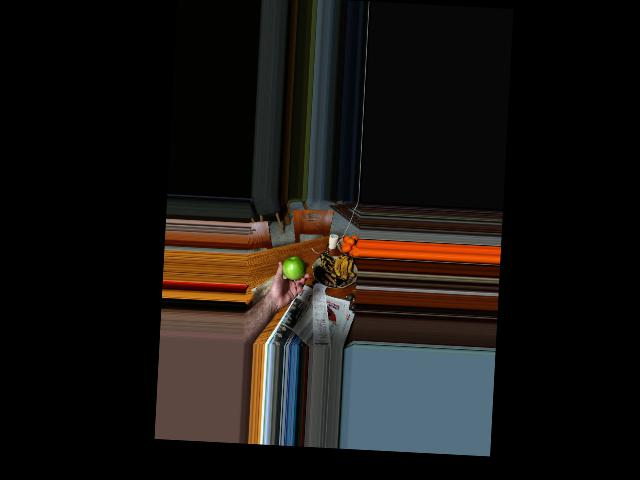apple: (282, 255, 307, 282)
